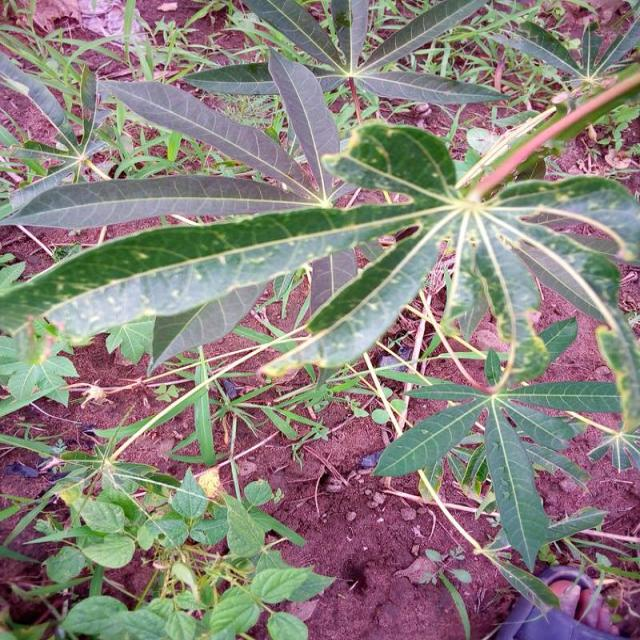cassava leaf: (2, 12, 640, 597), (1, 200, 422, 374)
